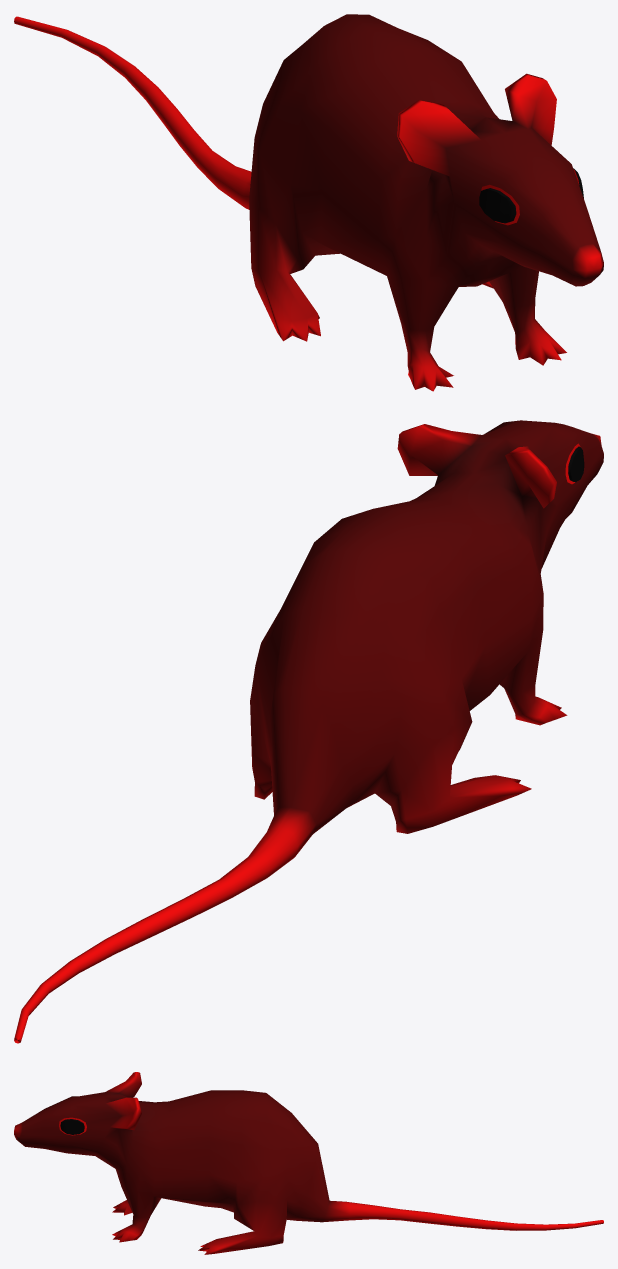
File: Animals_Rat.fbx
3 renders of one model, top to bottom at view 1: azimuth 30°, elevation 25°; view 2: azimuth 150°, elevation 25°; view 3: azimuth 270°, elevation 25°, orthographic. The views are drawn at different scales.
Visible parts, largest first — view 1: base; view 2: base; view 3: base.
Boxes of the visible parts, x1,y1,x2,y2 form: base: [14, 14, 603, 391]; base: [14, 420, 603, 1043]; base: [14, 1072, 603, 1254].
Size of the model in its own units: 35.33 by 37.01 by 142.
